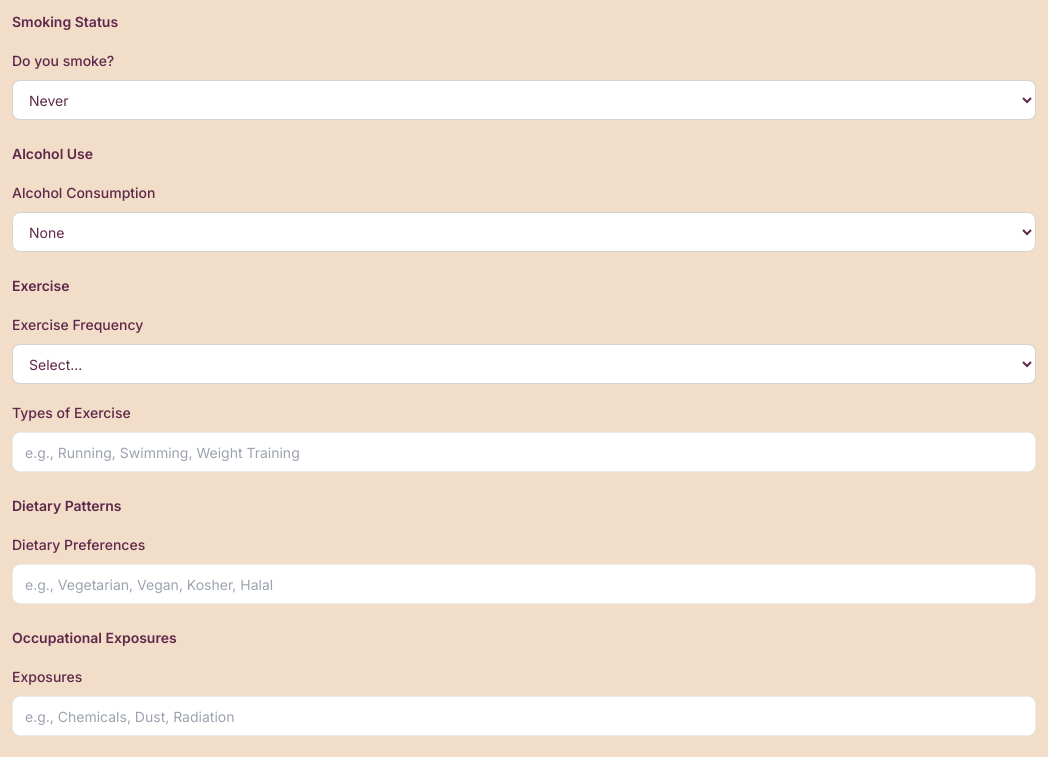
Test: LifestyleForm › Alcohol Use › should show alcohol details field when alcohol use is not "none"
The image size is (1048, 757).
Select "Occasional" in the dropdown labelled "Alcohol Consumption". click: x=524, y=232
box: [12, 212, 1036, 252]
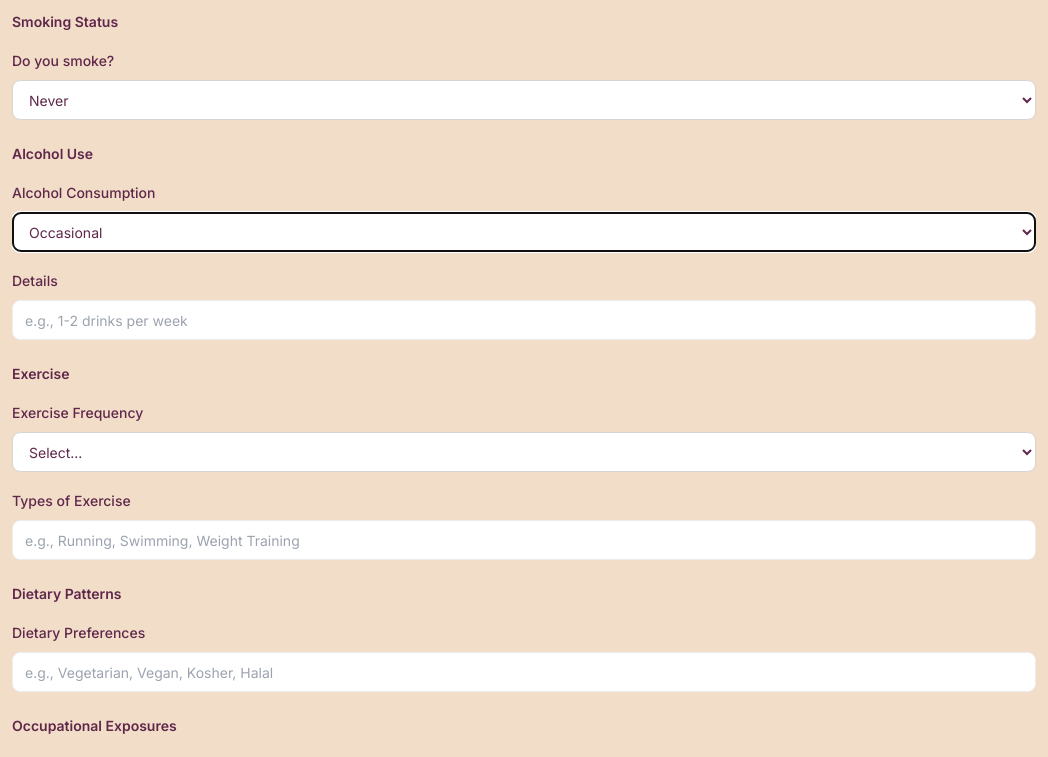
Check: the field labelled "Details" is shown, box [12, 300, 1036, 340]
